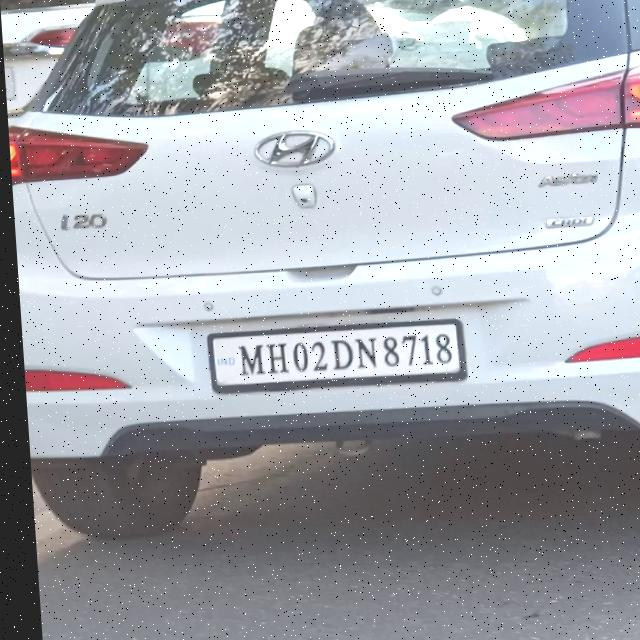plate: (201, 320, 465, 392)
